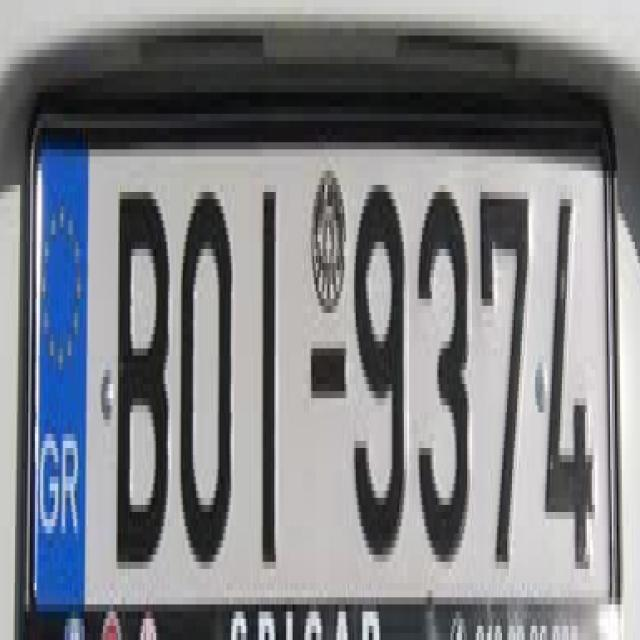EU: (32, 150, 614, 627)
Grece: (32, 135, 87, 612)
